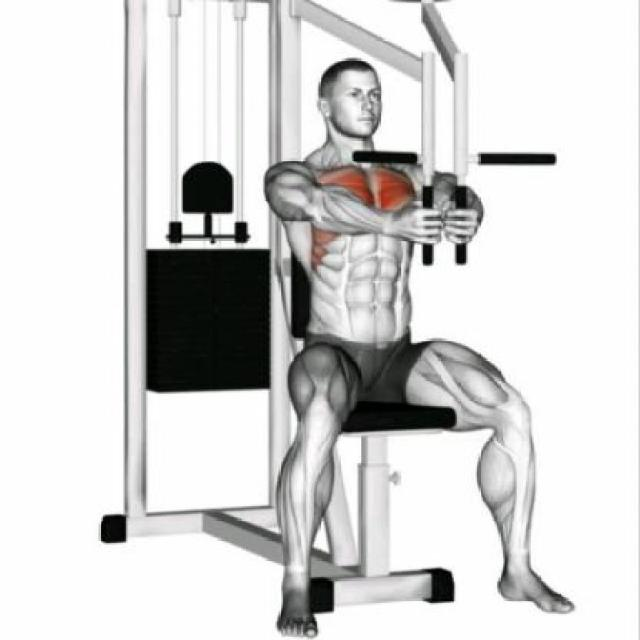chest fly machine: (94, 0, 581, 640)
